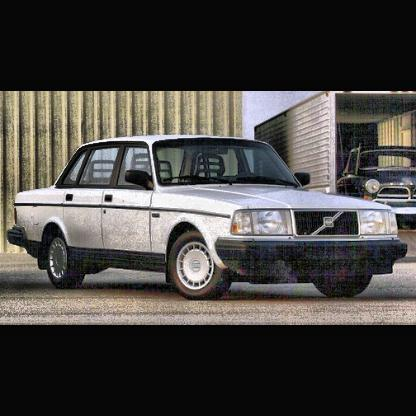Volvo 240 Sedan 1993: (8, 137, 410, 307)
